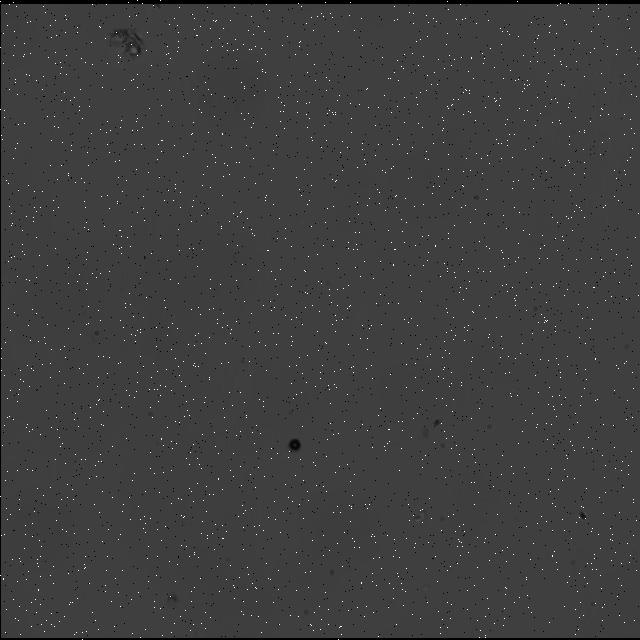microbeads: (282, 432, 304, 454)
